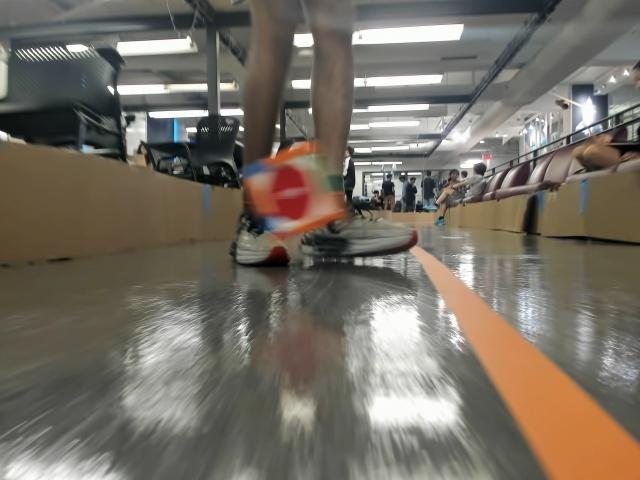Stop: (265, 170, 304, 225)
